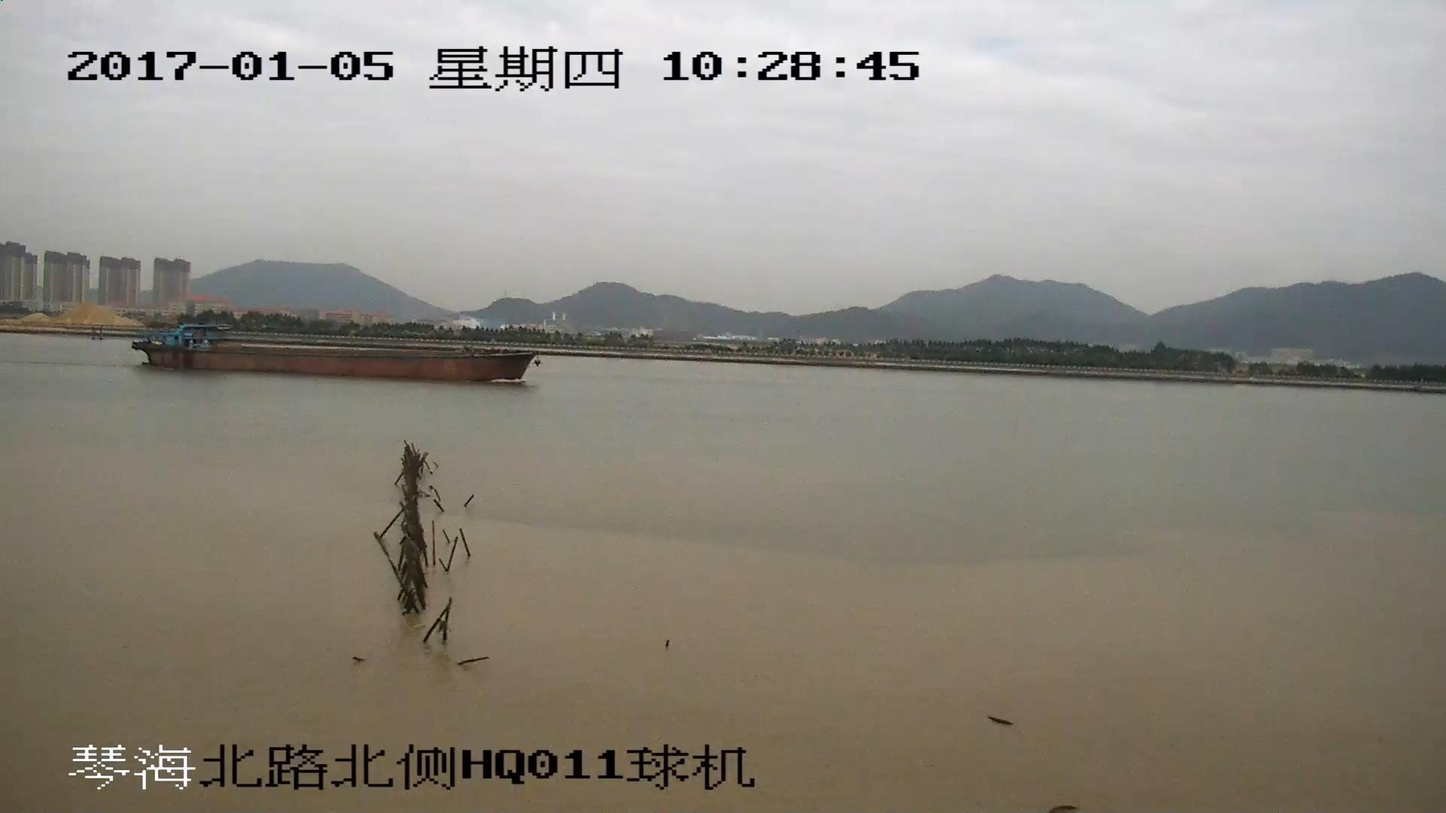bulk cargo carrier: (124, 324, 538, 382)
